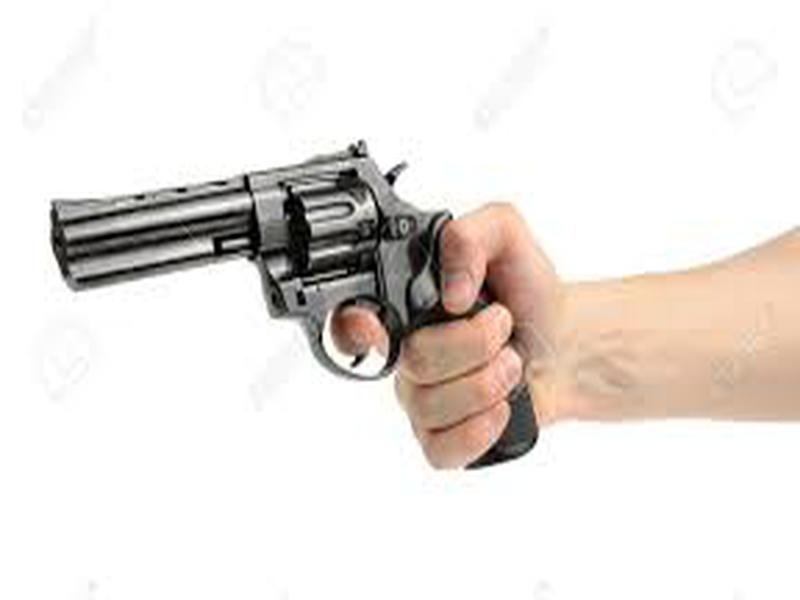gun: (49, 133, 585, 486)
